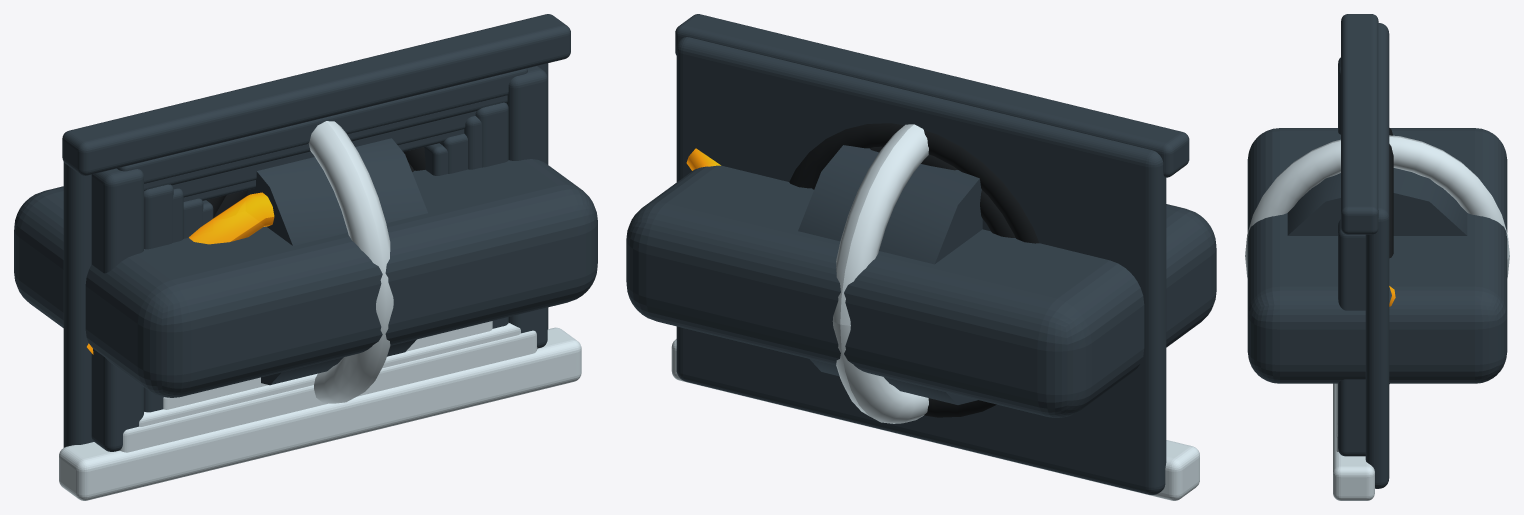
Rendered from body_17.glb.
3 views of the same model, side by side, from view 1: azimuth 30°, elevation 25°; view 2: azimuth 150°, elevation 25°; view 3: azimuth 270°, elevation 25° (orthographic). The views are drawn at different scales.
Parts seen in each view (by area): view 1: asset_mesh__body_0881__reference_body, asset_mesh__body_0907__lower_flange, asset_mesh__body_0907__upper_flange, asset_mesh__body_0899__rotor, asset_mesh__body_0899__functional_ring, asset_mesh__body_0907__left_reinforcement, asset_mesh__body_0877__upper_flange, asset_mesh__body_0877__lower_flange, asset_mesh__body_0907__stamped_sheet, asset_mesh__body_0907__right_reinforcement, asset_mesh__body_0876__upper_flange, asset_mesh__body_0874__lower_flange (+10 smaller); view 2: asset_mesh__body_0881__reference_body, asset_mesh__body_0907__stamped_sheet, asset_mesh__body_0907__lower_flange, asset_mesh__body_0899__rotor, asset_mesh__body_0899__functional_ring, asset_mesh__body_0890__service_element, asset_mesh__body_0907__upper_flange, asset_mesh__body_0896__service_element; view 3: asset_mesh__body_0881__reference_body, asset_mesh__body_0907__stamped_sheet, asset_mesh__body_0907__lower_flange, asset_mesh__body_0899__functional_ring, asset_mesh__body_0899__rotor, asset_mesh__body_0907__right_reinforcement, asset_mesh__body_0907__upper_flange, asset_mesh__body_0890__service_element.
Part boxes in pixels (x1,y1,x2,y2): asset_mesh__body_0881__reference_body: (14, 159, 597, 397); asset_mesh__body_0907__lower_flange: (62, 14, 570, 175); asset_mesh__body_0907__upper_flange: (59, 327, 581, 500); asset_mesh__body_0899__rotor: (247, 138, 427, 385); asset_mesh__body_0899__functional_ring: (308, 121, 393, 403); asset_mesh__body_0907__left_reinforcement: (91, 168, 143, 451); asset_mesh__body_0877__upper_flange: (120, 330, 537, 452); asset_mesh__body_0877__lower_flange: (117, 68, 527, 183); asset_mesh__body_0907__stamped_sheet: (63, 63, 548, 447); asset_mesh__body_0907__right_reinforcement: (507, 66, 547, 348); asset_mesh__body_0876__upper_flange: (139, 323, 520, 426); asset_mesh__body_0874__lower_flange: (172, 111, 476, 197); asset_mesh__body_0881__reference_body: (626, 165, 1216, 417); asset_mesh__body_0907__stamped_sheet: (676, 37, 1166, 494); asset_mesh__body_0907__lower_flange: (675, 14, 1189, 177); asset_mesh__body_0899__rotor: (798, 145, 982, 404); asset_mesh__body_0899__functional_ring: (832, 124, 928, 423); asset_mesh__body_0890__service_element: (789, 123, 1038, 417); asset_mesh__body_0907__upper_flange: (671, 339, 1199, 500); asset_mesh__body_0896__service_element: (812, 146, 1015, 237); asset_mesh__body_0881__reference_body: (1247, 128, 1507, 383); asset_mesh__body_0907__stamped_sheet: (1365, 23, 1389, 488); asset_mesh__body_0907__lower_flange: (1341, 14, 1378, 234); asset_mesh__body_0899__functional_ring: (1245, 135, 1509, 277); asset_mesh__body_0899__rotor: (1287, 168, 1467, 235); asset_mesh__body_0907__right_reinforcement: (1338, 219, 1365, 456); asset_mesh__body_0907__upper_flange: (1333, 383, 1374, 500); asset_mesh__body_0890__service_element: (1389, 128, 1393, 383).
Bounding box in the file's own units: 1.63 × 1.09 × 0.8996.
